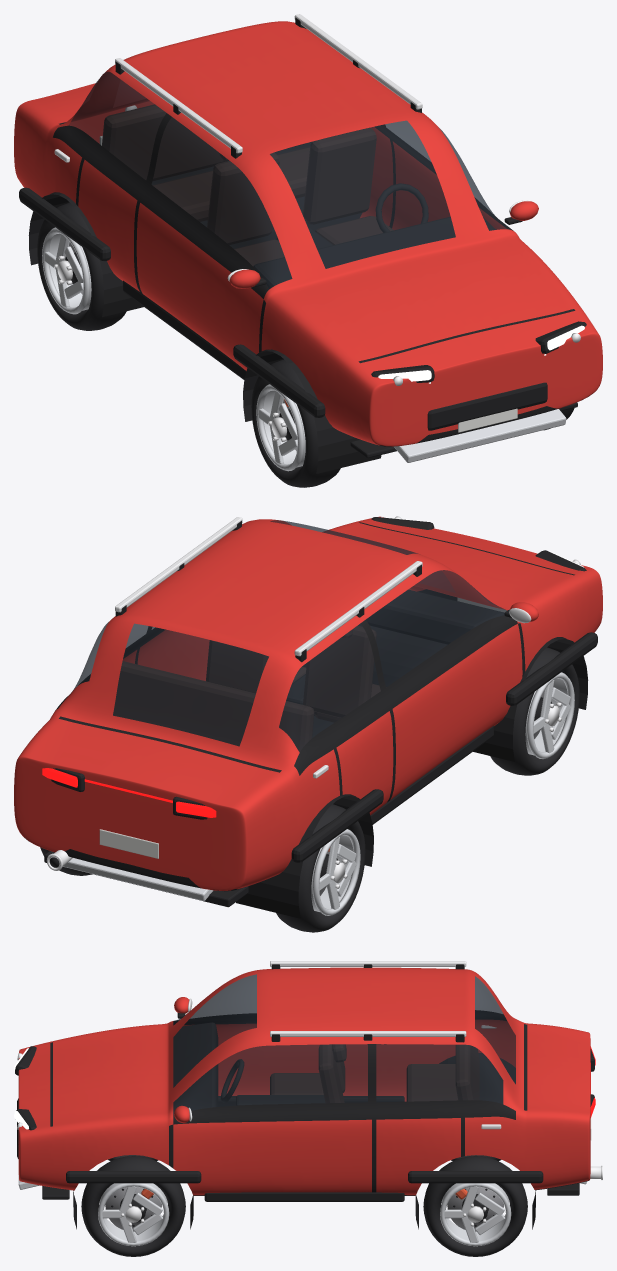
Rendered from atlas.glb.
3 renders of one model, top to bottom at view 1: azimuth 30°, elevation 25°; view 2: azimuth 150°, elevation 25°; view 3: azimuth 270°, elevation 25°, orthographic. The views are drawn at different scales.
Parts seen in each view (by area): view 1: body, wheel_fr, wheel_rr; view 2: body, wheel_rr, wheel_fr; view 3: body, wheel_fl, wheel_rl.
Part boxes in pixels (x1,y1,x2,y2): body: (14, 14, 602, 473); wheel_fr: (251, 359, 340, 487); wheel_rr: (37, 202, 126, 330); body: (14, 516, 602, 918); wheel_rr: (276, 804, 365, 932); wheel_fr: (490, 647, 579, 775); body: (14, 961, 602, 1229); wheel_fl: (81, 1156, 185, 1256); wheel_rl: (423, 1156, 527, 1256).
Size of the model in its own units: 2.28 by 1.88 by 4.74.
